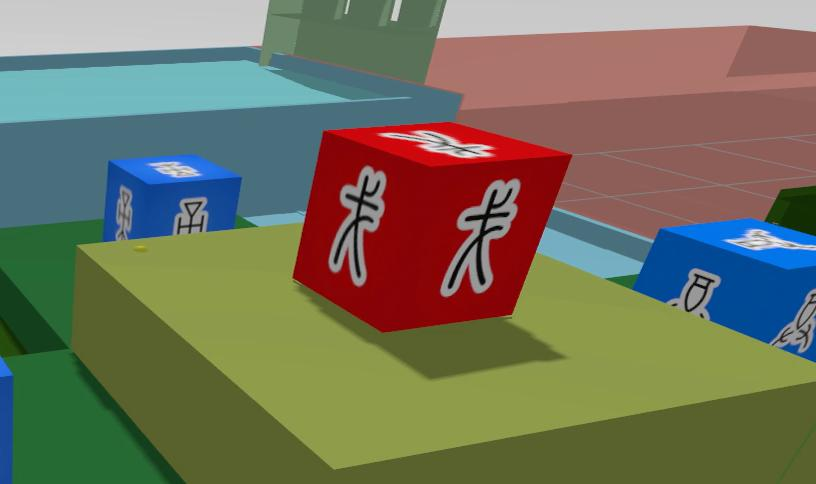KFS_FAKE: (293, 122, 570, 331), (440, 179, 518, 296), (328, 166, 386, 286), (381, 130, 492, 157)
KFS_REAL: (633, 219, 815, 360), (102, 154, 241, 240), (770, 289, 815, 353), (667, 269, 720, 319), (725, 228, 815, 250), (0, 357, 12, 484), (173, 197, 208, 234)
